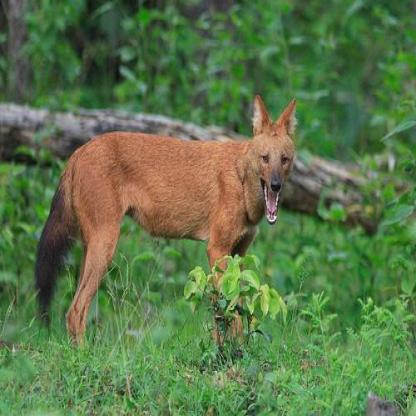dhole: (33, 91, 296, 347)
